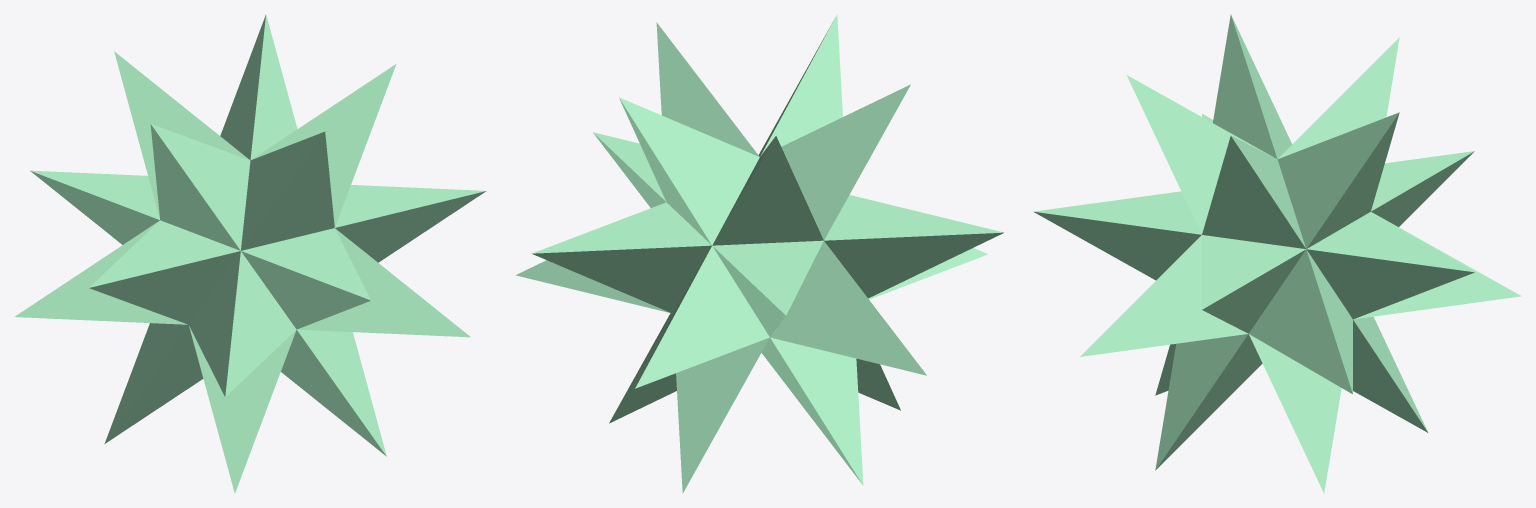
3 renders of one model, left to right at view 1: azimuth 30°, elevation 25°; view 2: azimuth 150°, elevation 25°; view 3: azimuth 270°, elevation 25°, orthographic. The views are drawn at different scales.
Parts seen in each view (by area): view 1: group_0; view 2: group_0; view 3: group_0.
Boxes of the visible parts, <box> form: group_0: <box>14,14,486,493</box>; group_0: <box>516,14,1003,493</box>; group_0: <box>1033,14,1521,493</box>.
Size of the model in its own units: 73.56 by 77.34 by 62.57.
